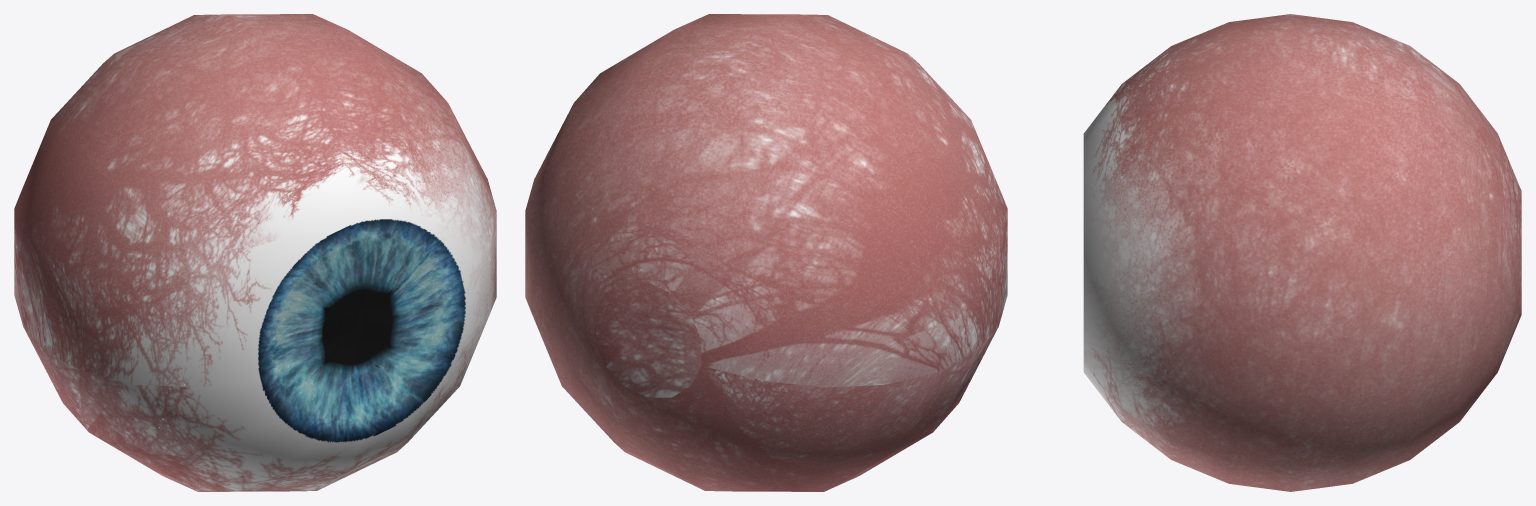
The model's file is blue_eye.glb.
3 renders of one model, left to right at view 1: azimuth 30°, elevation 25°; view 2: azimuth 150°, elevation 25°; view 3: azimuth 270°, elevation 25°, orthographic. The views are drawn at different scales.
Visible parts, largest first — view 1: Object_2; view 2: Object_2; view 3: Object_2.
Part boxes in pixels (x1=…): Object_2: x1=14, y1=14, x2=496, y2=491; Object_2: x1=525, y1=14, x2=1007, y2=491; Object_2: x1=1083, y1=14, x2=1521, y2=491.
Size of the model in its own units: 0.8612 by 0.8833 by 0.8968.
1 material, 1 textured.
